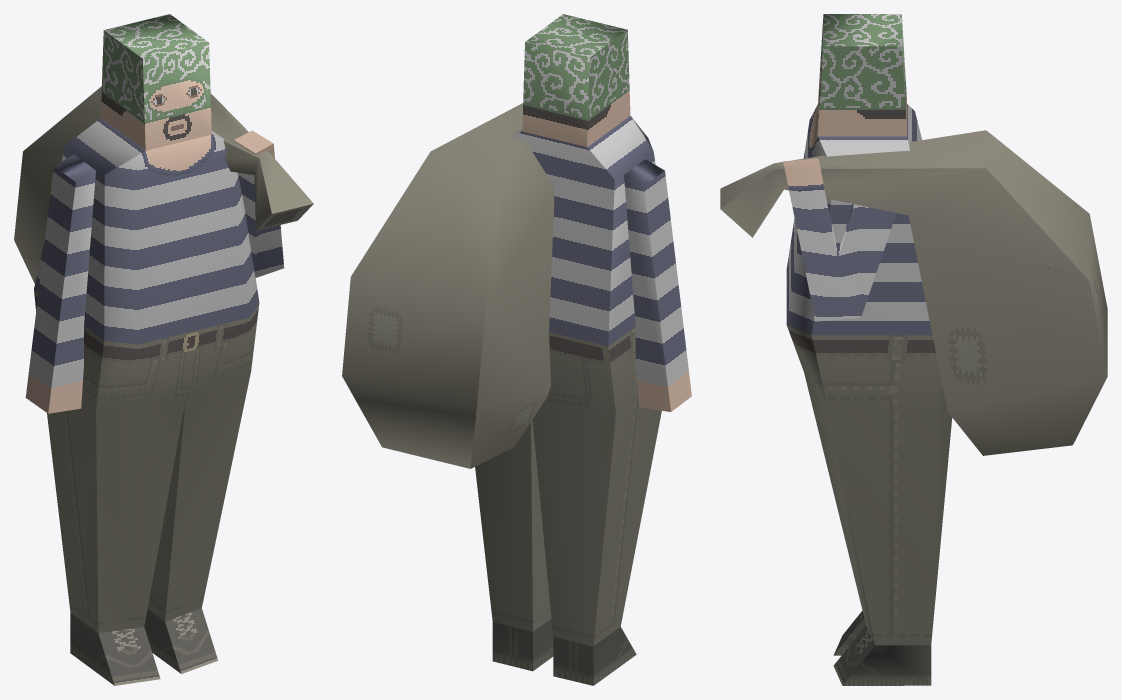
The model's file is 0253_Burglar.glb.
The picture shows the model from 3 angles, left to right: view 1: azimuth 30°, elevation 25°; view 2: azimuth 150°, elevation 25°; view 3: azimuth 270°, elevation 25°; orthographic projection. The views are drawn at different scales.
Parts seen in each view (by area): view 1: part_0; view 2: part_0; view 3: part_0.
Boxes of the visible parts, x1,y1,x2,y2 form: part_0: [14, 14, 313, 685]; part_0: [342, 14, 691, 685]; part_0: [720, 14, 1107, 685].
Size of the model in its own units: 0.6008 by 1.56 by 0.8671.
1 material, 1 textured.
